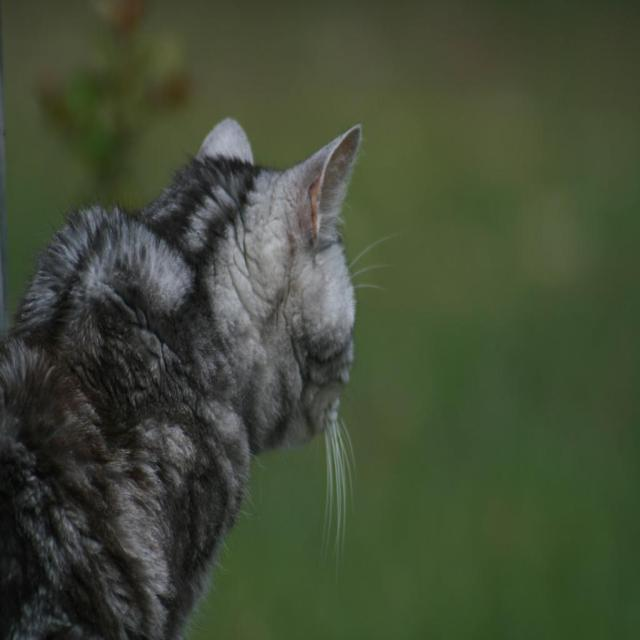Cat: (0, 111, 402, 638)
